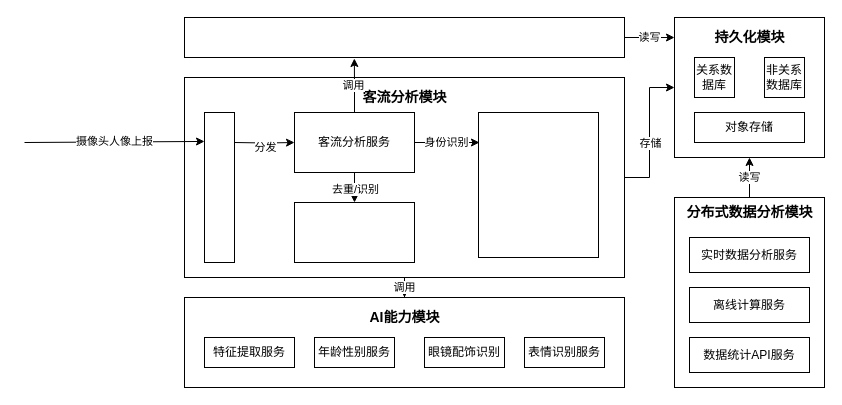
Image size: 842x405. Some labels were removed from this diagram. The shapes that lost their labels are listed below. From the top down, each one's centre as x and y in pixels, then its label:
[404,37]: 摄像头管理服务
[219,187]: 人像网关服务
[538,185]: 百万人脸识别服务（EFB）
[354,232]: 多级识别库
